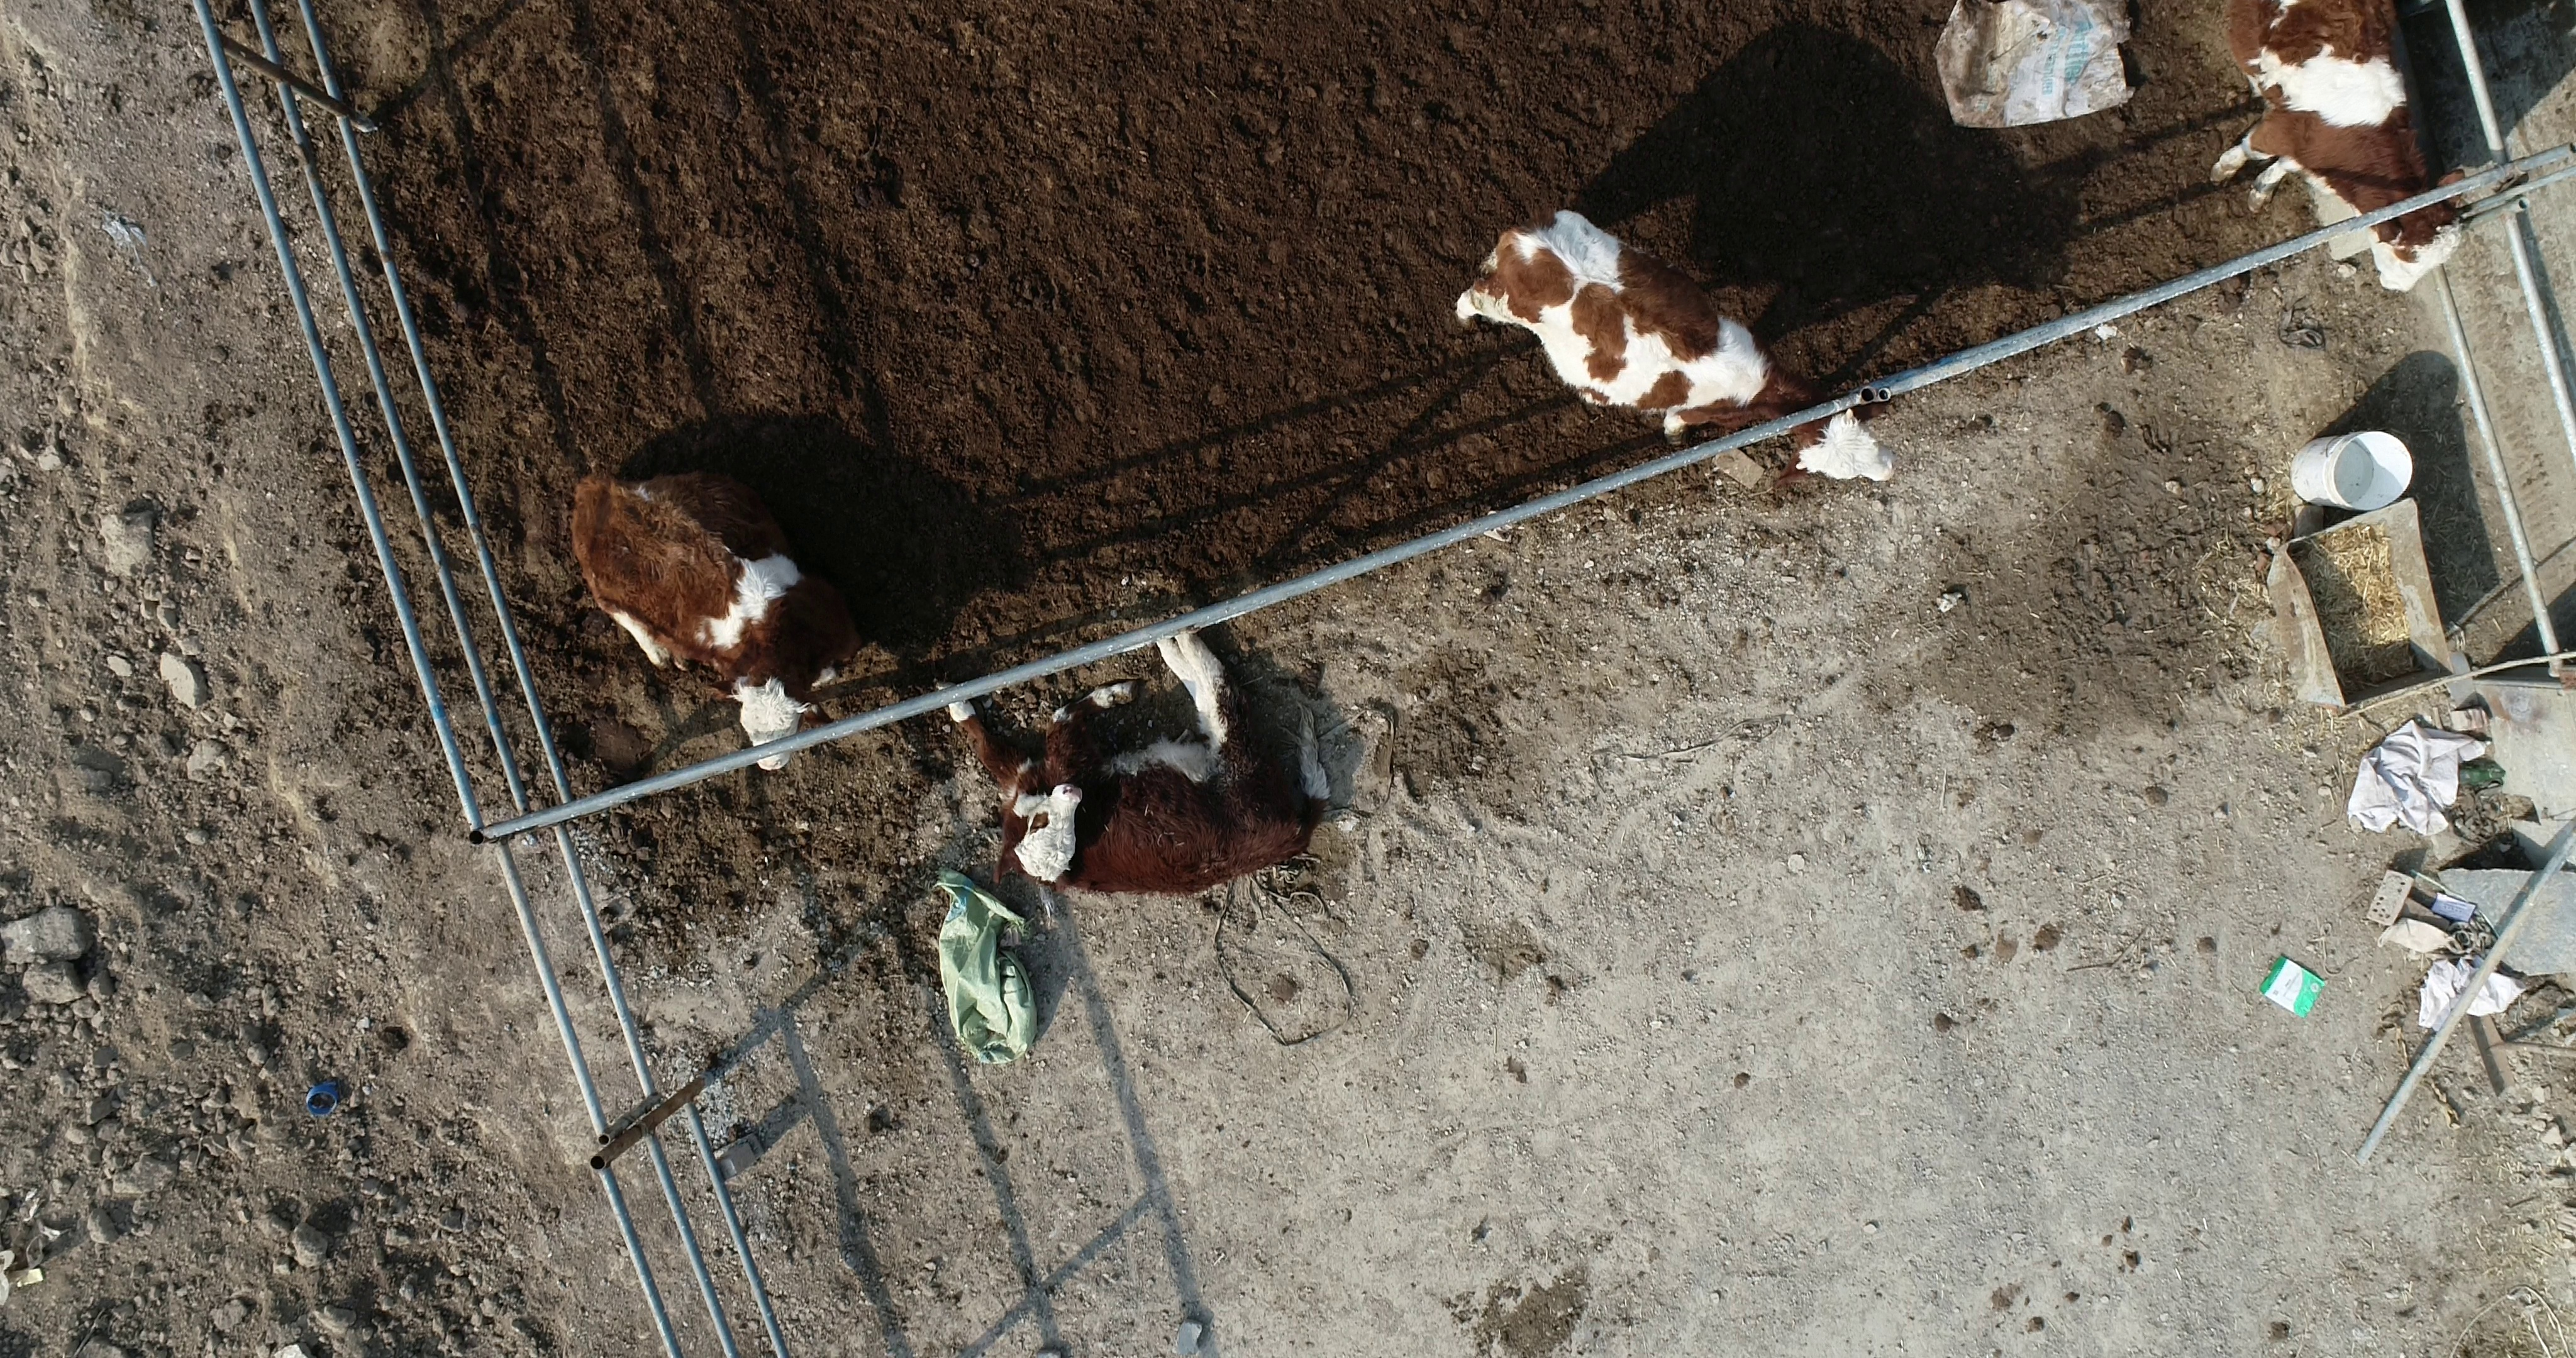cattle: (1448, 203, 1901, 494), (927, 625, 1343, 895), (564, 458, 871, 784)
